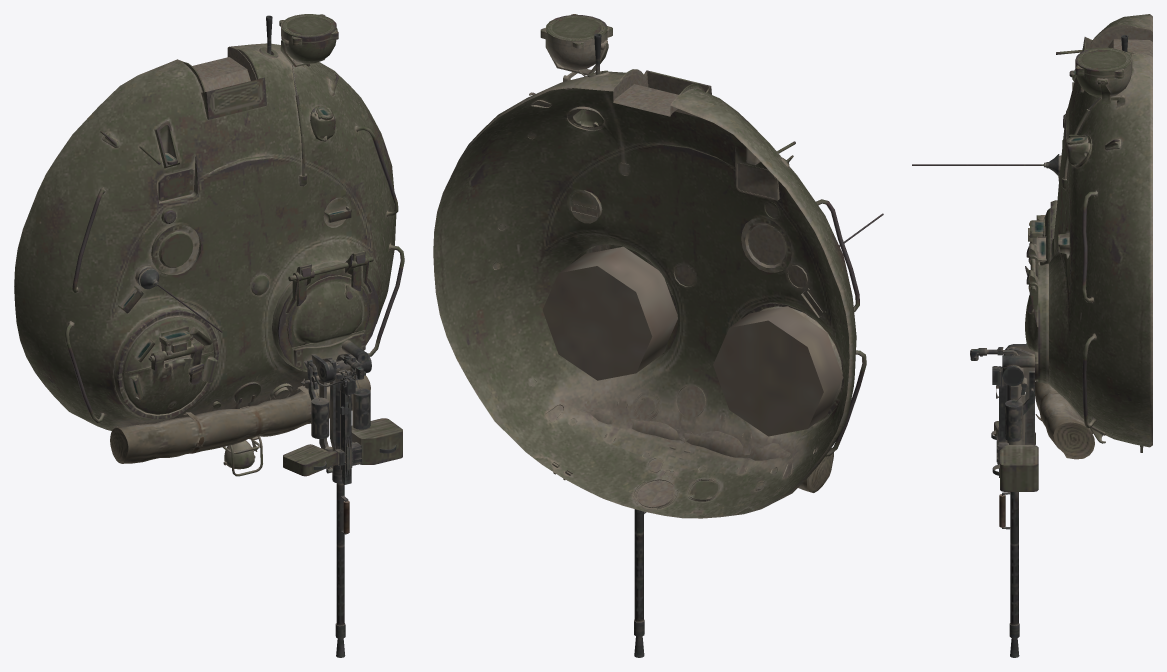
Rendered from Turret_01.glb.
3 renders of one model, left to right at view 1: azimuth 30°, elevation 25°; view 2: azimuth 150°, elevation 25°; view 3: azimuth 270°, elevation 25°, orthographic. The views are drawn at different scales.
Visible parts, largest first — view 1: set_0_group_0; view 2: set_0_group_0; view 3: set_0_group_0.
Part boxes in pixels (left/top/right/bottom): set_0_group_0: left=14, top=14, right=404, bottom=657; set_0_group_0: left=433, top=14, right=883, bottom=657; set_0_group_0: left=912, top=14, right=1152, bottom=657.
Size of the model in its own units: 2.73 by 4.16 by 1.48.
Materials: 1 (1 with a texture image).
